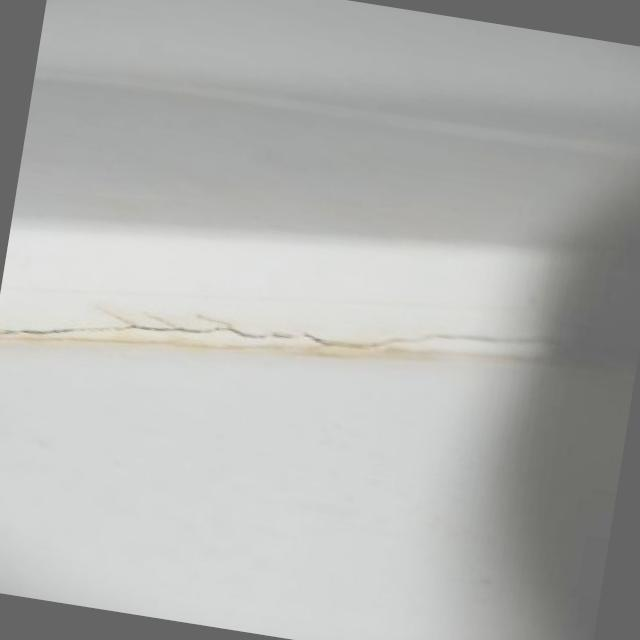crack: (136, 305, 385, 371), (390, 312, 540, 364), (0, 305, 135, 359)
